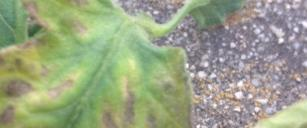Tomato mold leaf: (0, 0, 206, 128)
